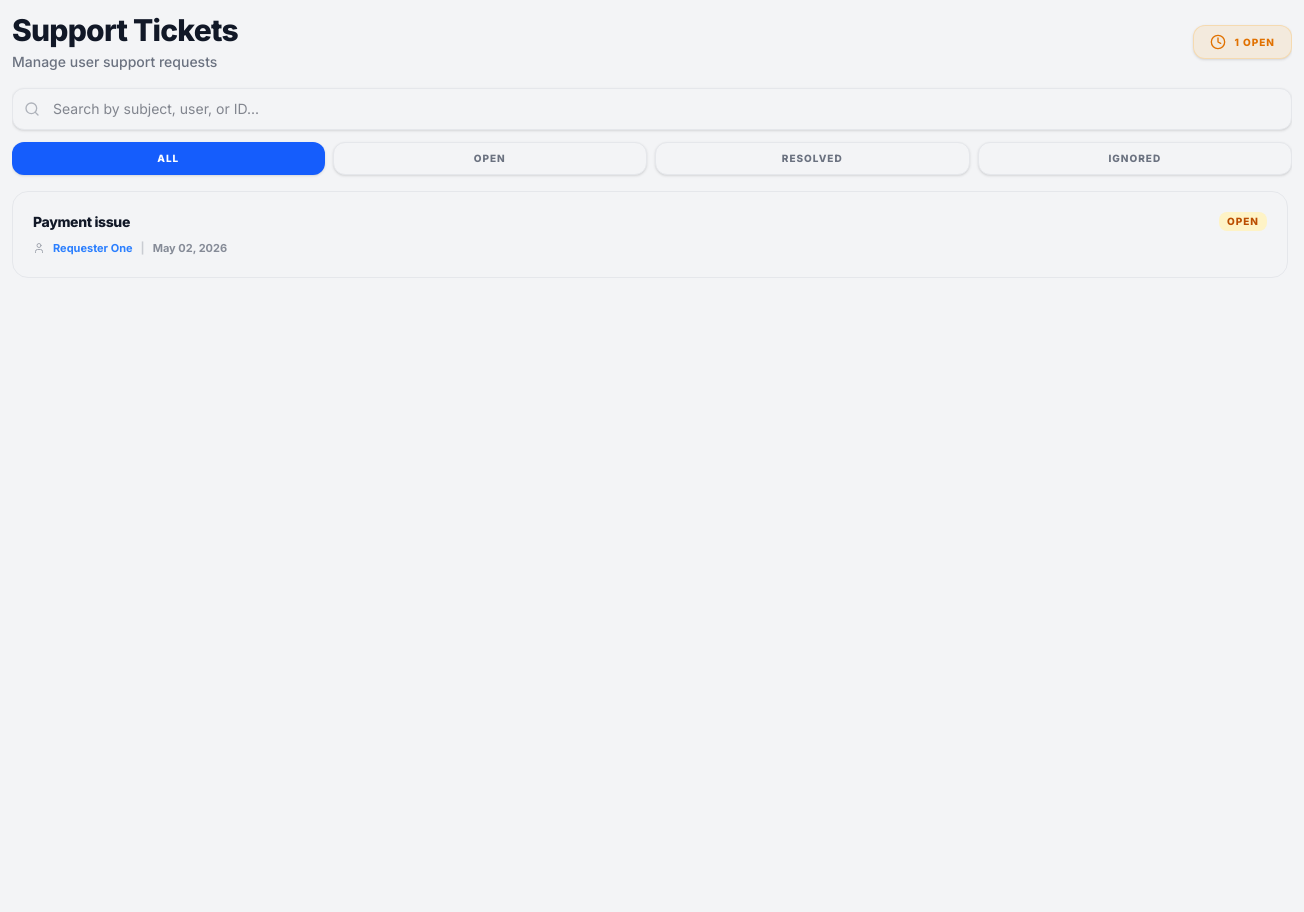
Scenario: SupportPage › marks ignored tickets with closure metadata
Click the heading "Payment issue" at (82, 222), box [33, 212, 130, 232]
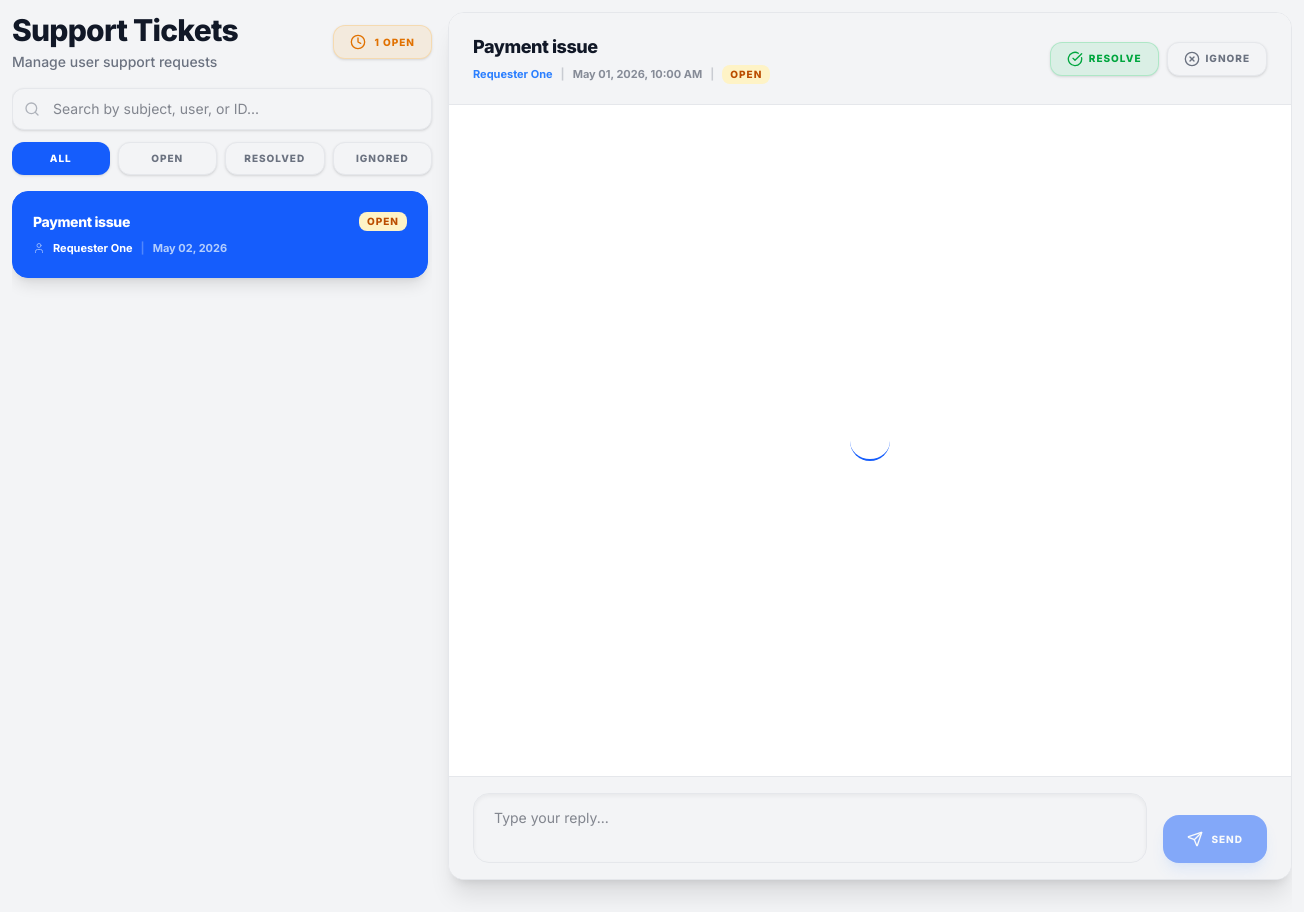
Click the button titled "Mark as ignored" at (1217, 58), box [1166, 42, 1267, 76]
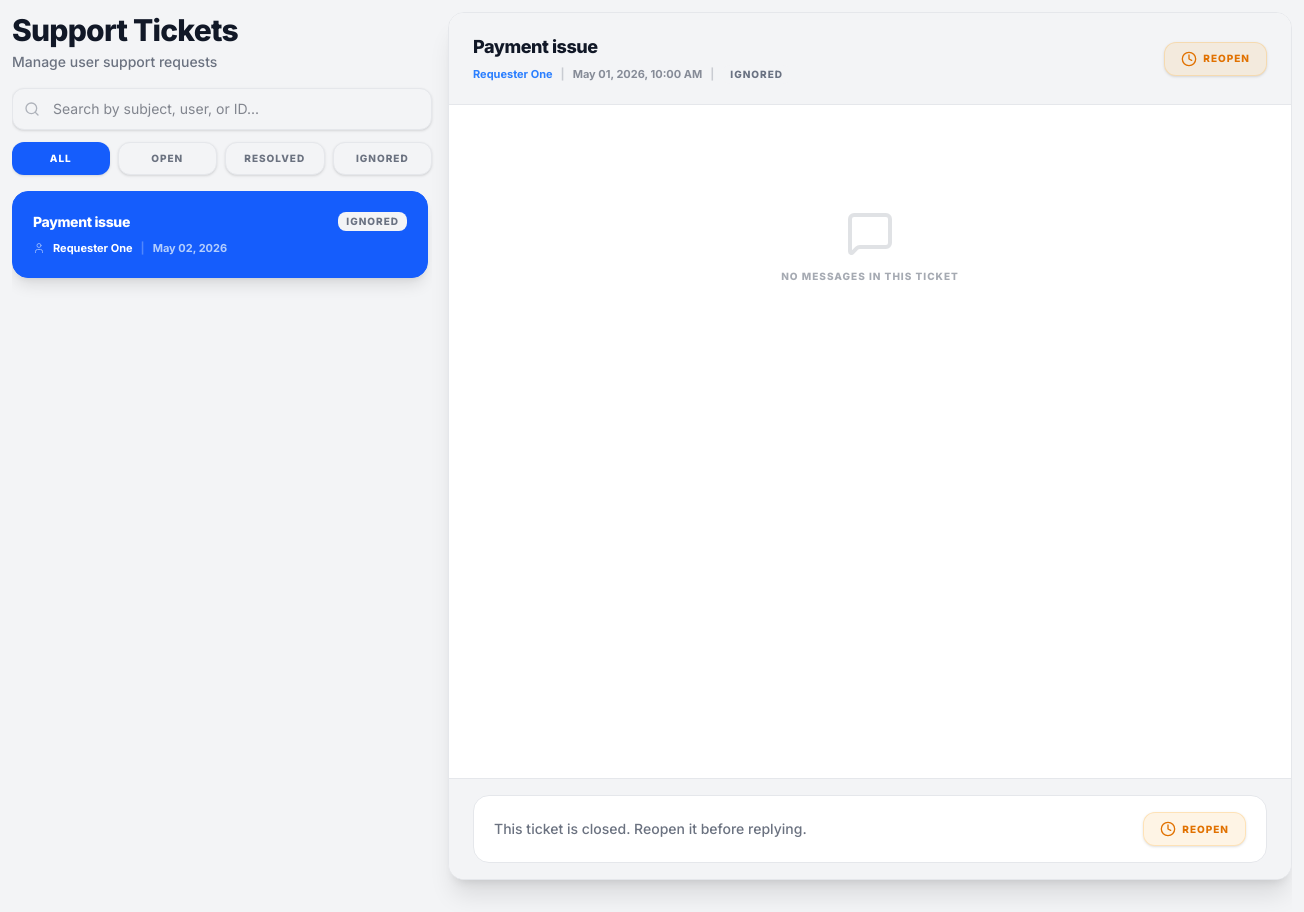
Result: the text "This ticket is closed. Reopen it before replying." is shown at [494, 819, 807, 839]
